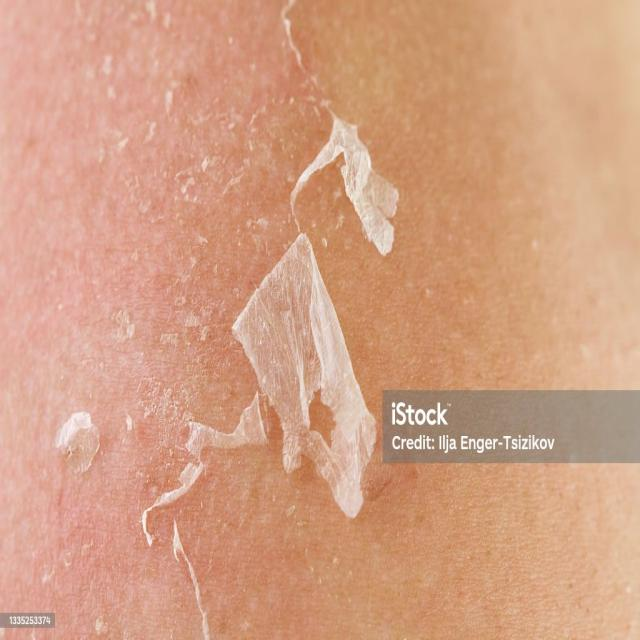Dry-Skin: (386, 92, 614, 295), (58, 193, 270, 398), (244, 104, 400, 336), (307, 387, 433, 628), (108, 0, 241, 204), (67, 433, 256, 548), (296, 25, 468, 133), (140, 448, 170, 476)
